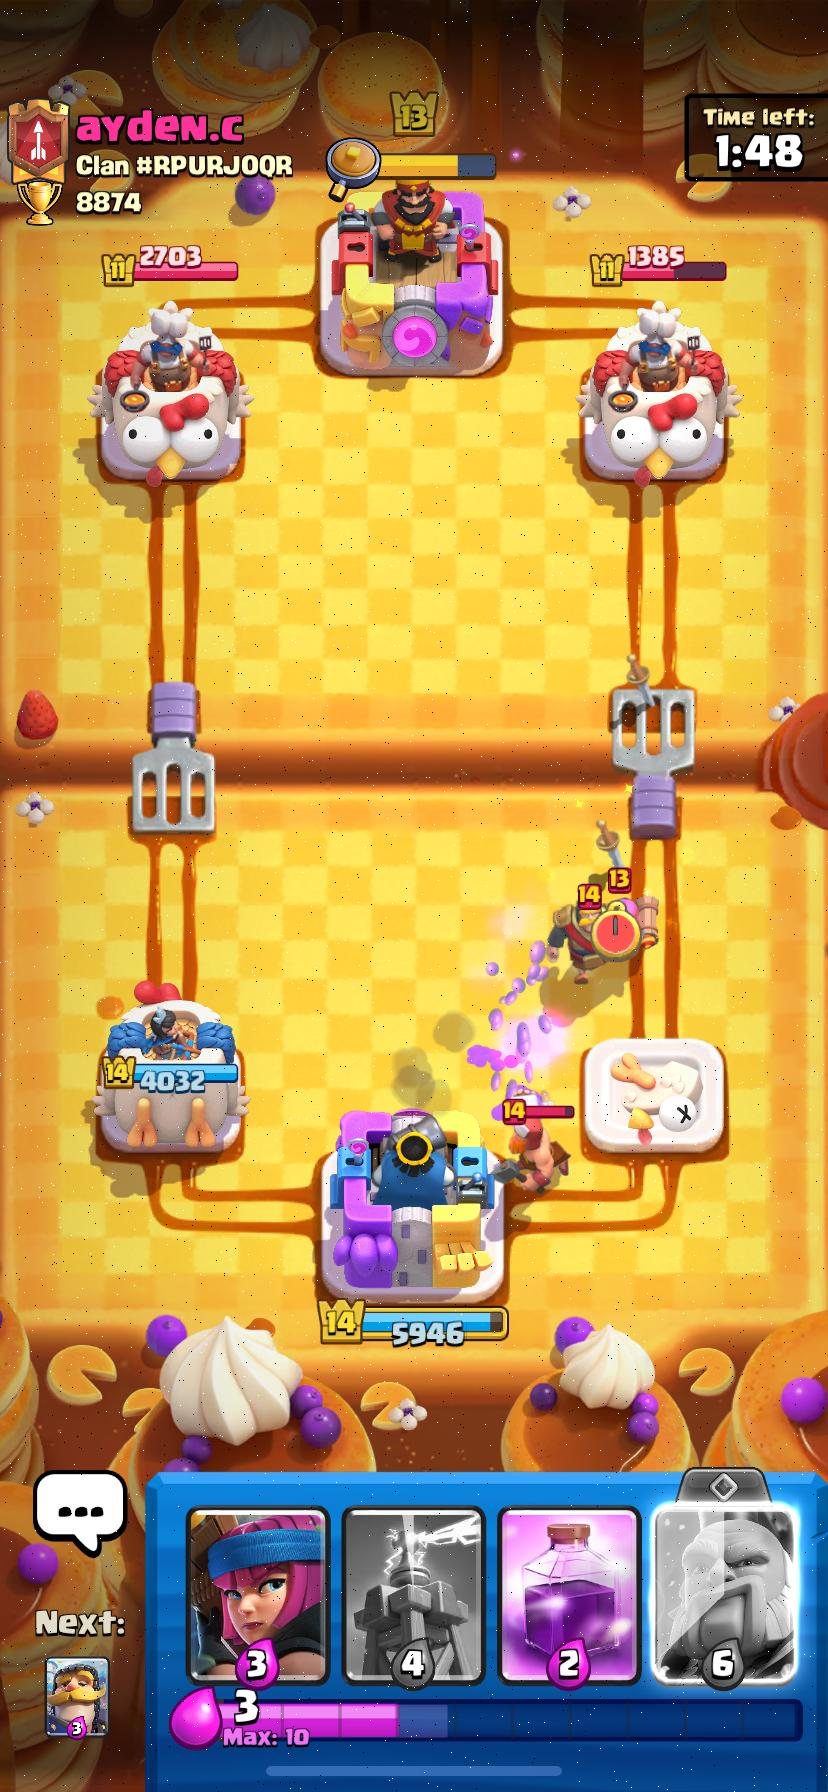EFirecrack: (607, 866, 658, 957)
EKingTower: (320, 178, 503, 378)
EKnight: (546, 881, 610, 983)
ELumberJack: (493, 1094, 574, 1195)
EnemyPanTower: (578, 301, 739, 488), (90, 301, 250, 486)
OwnKingTower: (321, 1109, 509, 1306)
OwnPrincessTower: (93, 983, 248, 1152)
TowerDown: (580, 1035, 726, 1157)
